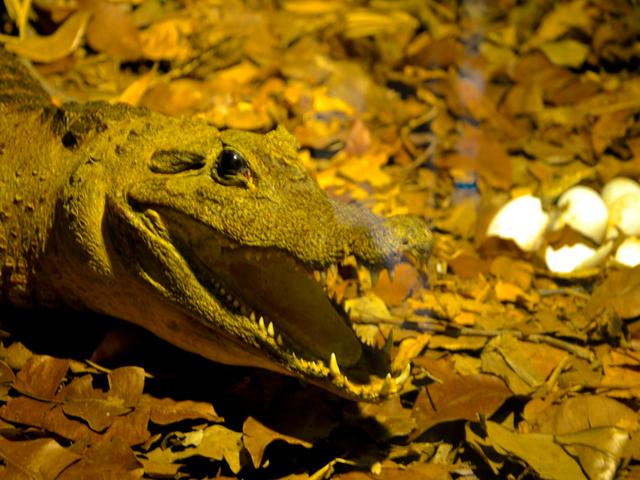crocodile: (6, 113, 476, 423)
